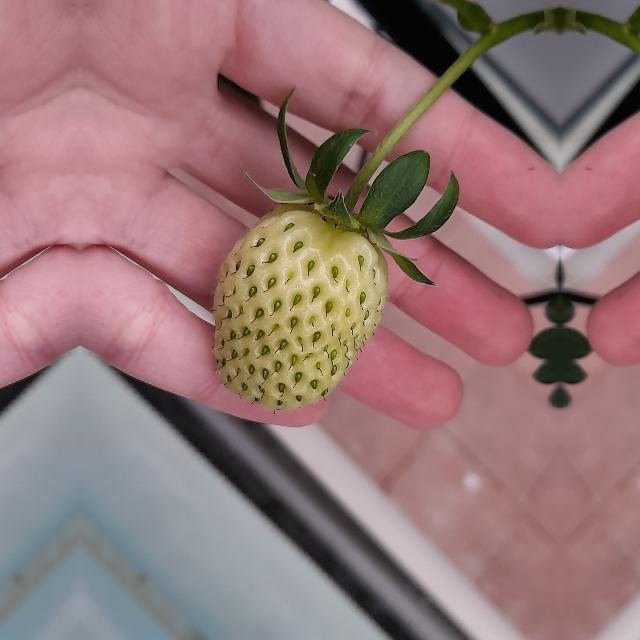Health_25: (212, 204, 388, 410)
